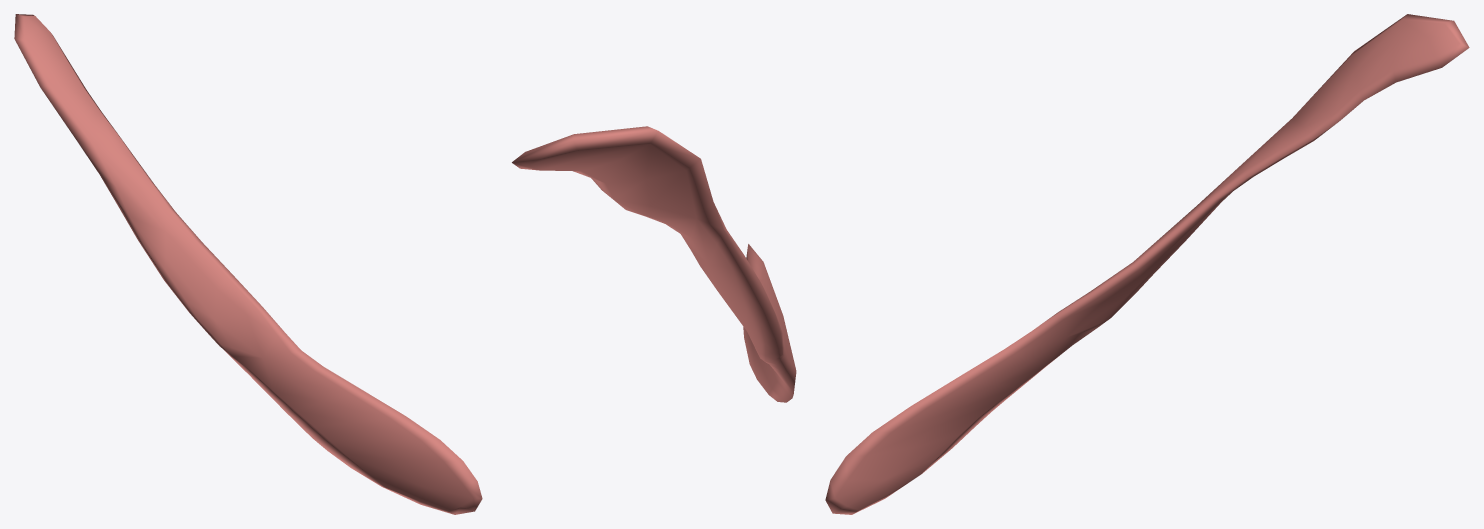
3 views of the same model, side by side, from view 1: azimuth 30°, elevation 25°; view 2: azimuth 150°, elevation 25°; view 3: azimuth 270°, elevation 25° (orthographic). The views are drawn at different scales.
Parts seen in each view (by area): view 1: ZA_ac61ddd55b60cb46; view 2: ZA_ac61ddd55b60cb46; view 3: ZA_ac61ddd55b60cb46.
Part boxes in pixels (x1=…): ZA_ac61ddd55b60cb46: x1=14, y1=14, x2=482, y2=514; ZA_ac61ddd55b60cb46: x1=512, y1=126, x2=796, y2=402; ZA_ac61ddd55b60cb46: x1=825, y1=14, x2=1469, y2=514.
Size of the model in its own units: 0.00873 by 0.0138 by 0.0202.
